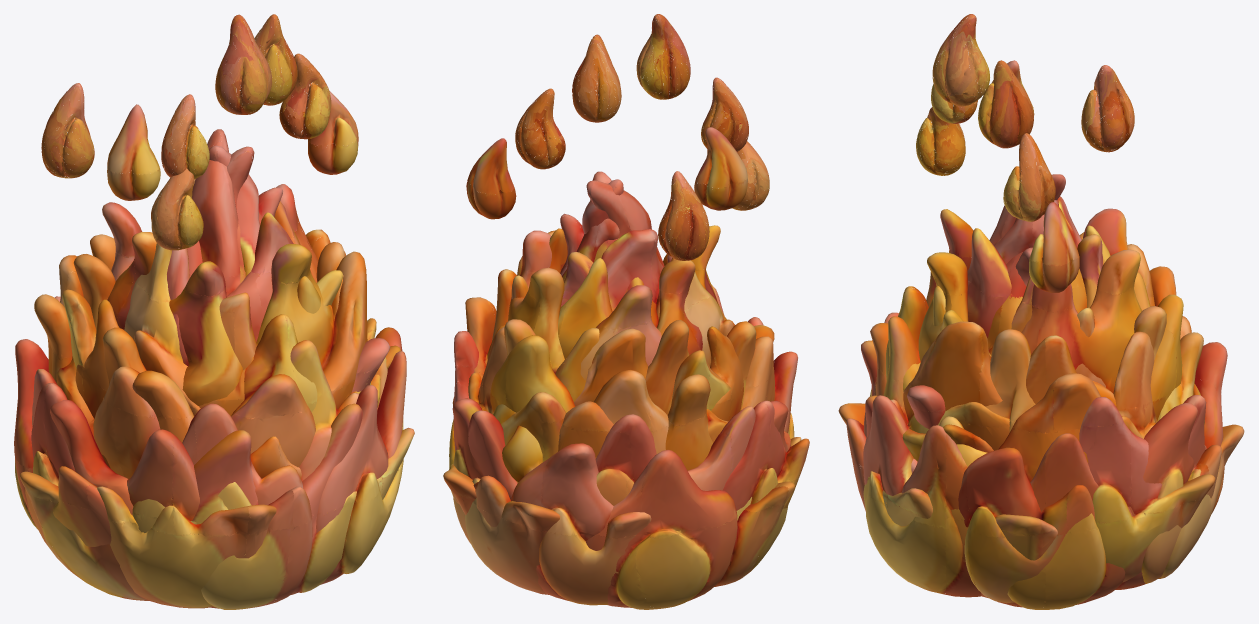
File: seatishe.glb
The picture shows the model from 3 angles, left to right: view 1: azimuth 30°, elevation 25°; view 2: azimuth 150°, elevation 25°; view 3: azimuth 270°, elevation 25°; orthographic projection. The views are drawn at different scales.
Parts seen in each view (by area): view 1: Fire1, Fire3, Fire2; view 2: Fire1, Fire3, Fire2; view 3: Fire3, Fire1, Fire2.
Part boxes in pixels (x1,y1,x2,y2): Fire1: (14, 14, 406, 609); Fire3: (32, 14, 402, 608); Fire2: (31, 83, 414, 546); Fire1: (465, 14, 794, 609); Fire3: (452, 34, 801, 605); Fire2: (443, 77, 809, 514); Fire3: (838, 60, 1227, 603); Fire1: (846, 14, 1244, 609); Fire2: (863, 59, 1215, 582).
Bounding box in the file's own units: 0.7743 × 1.13 × 0.7653.
1 material, 1 textured.
